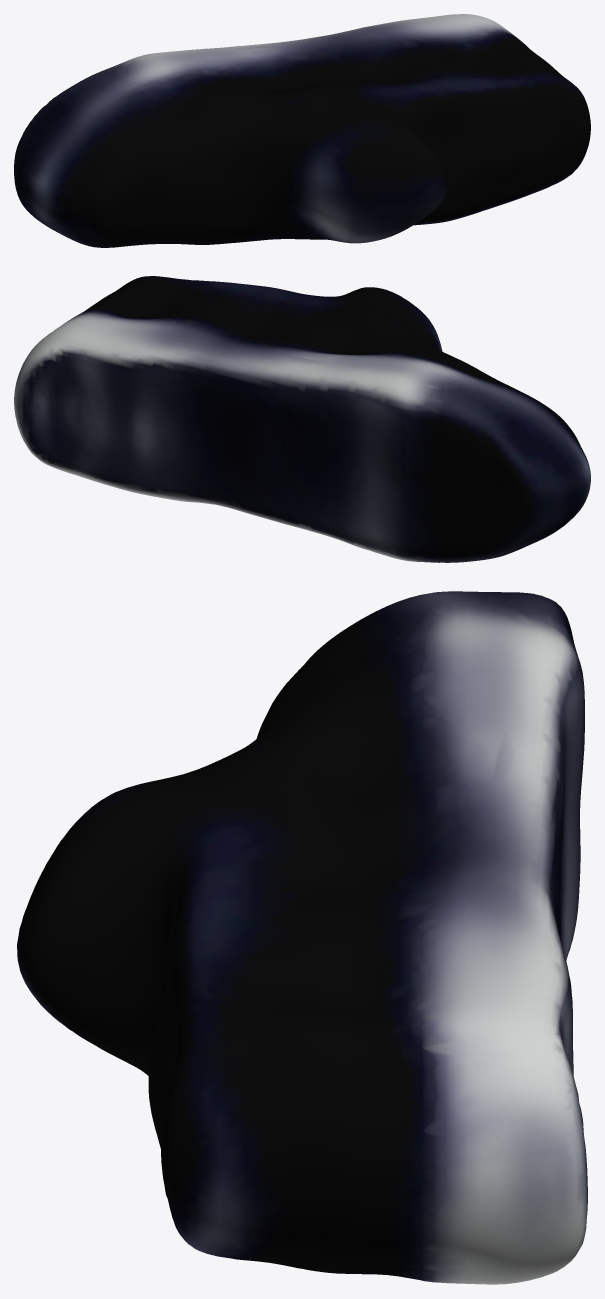
Rendered from shoe.glb.
3 views of the same model, one above another, from view 1: azimuth 30°, elevation 25°; view 2: azimuth 150°, elevation 25°; view 3: azimuth 270°, elevation 25° (orthographic). The views are drawn at different scales.
Bounding box in the file's own units: 0.9997 × 0.3243 × 0.4806.
